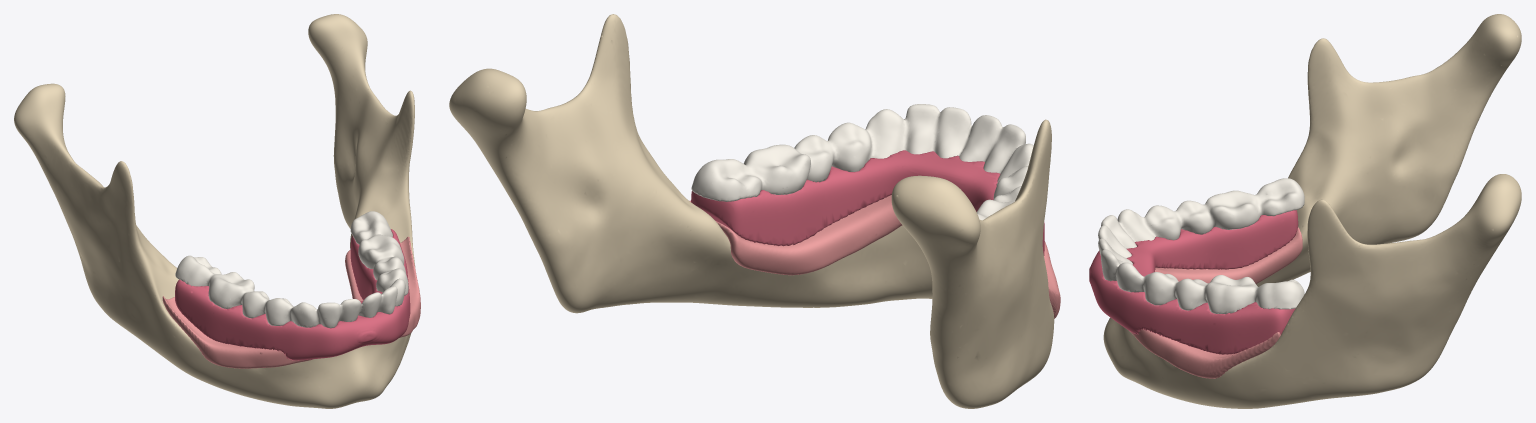
File: denture-whole.glb
3 views of the same model, side by side, from view 1: azimuth 30°, elevation 25°; view 2: azimuth 150°, elevation 25°; view 3: azimuth 270°, elevation 25° (orthographic). The views are drawn at different scales.
Visible parts, largest first — view 1: bone, denture, denture_teeth, gum; view 2: bone, denture_teeth, denture, gum; view 3: bone, denture, denture_teeth, gum.
Boxes of the visible parts, bbox=[...] form: bone: bbox=[14, 14, 415, 408]; denture: bbox=[175, 229, 410, 360]; denture_teeth: bbox=[175, 211, 408, 328]; gum: bbox=[162, 236, 420, 368]; bone: bbox=[449, 14, 1054, 408]; denture_teeth: bbox=[691, 104, 1033, 220]; denture: bbox=[691, 150, 1044, 255]; gum: bbox=[689, 195, 1060, 318]; bone: bbox=[1103, 14, 1521, 408]; denture: bbox=[1089, 210, 1298, 354]; denture_teeth: bbox=[1098, 178, 1304, 314]; gum: bbox=[1129, 227, 1302, 378].
Bounding box in the file's own units: 106 × 67.96 × 98.73.
